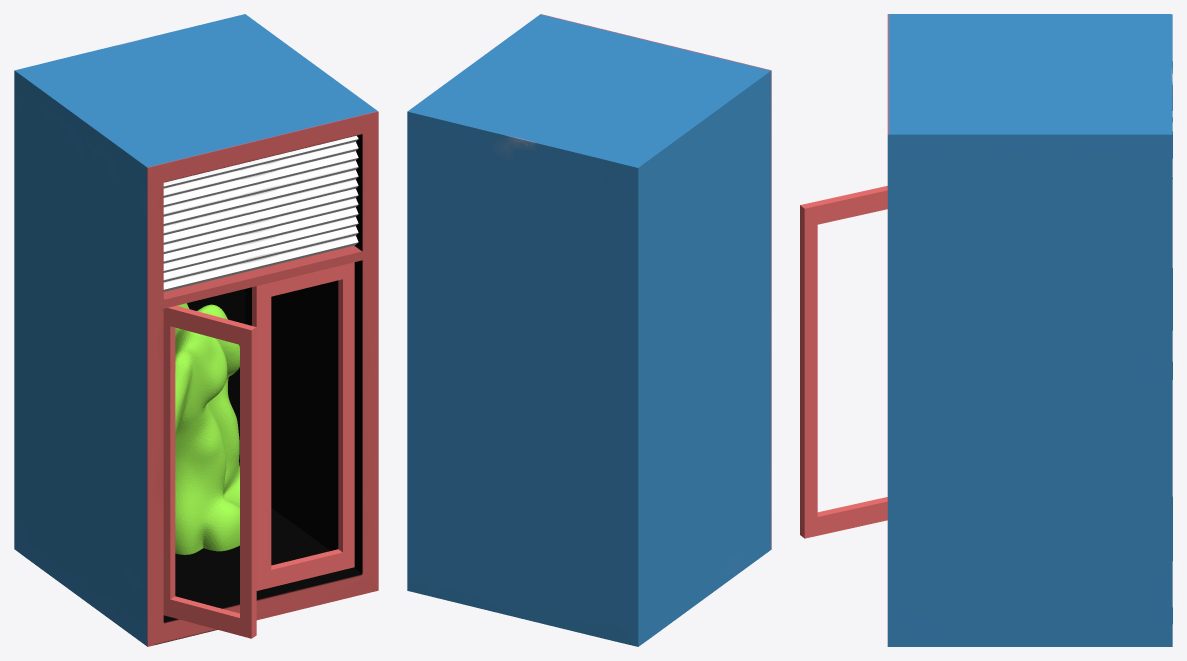
3 views of the same model, side by side, from view 1: azimuth 30°, elevation 25°; view 2: azimuth 150°, elevation 25°; view 3: azimuth 270°, elevation 25° (orthographic). The views are drawn at different scales.
Parts seen in each view (by area): view 1: Frame, Box (×2), Sphere, Box 1; view 2: Frame; view 3: Frame, Box.
Boxes of the visible parts, x1,y1,x2,y2 form: Frame: [14, 14, 378, 646]; Box (×2): [163, 135, 358, 638]; Sphere: [175, 303, 239, 554]; Box 1: [252, 262, 354, 590]; Frame: [407, 14, 771, 646]; Frame: [887, 14, 1172, 646]; Box: [800, 186, 887, 538].
Size of the model in its own units: 0.4101 by 0.8133 by 0.5359.
